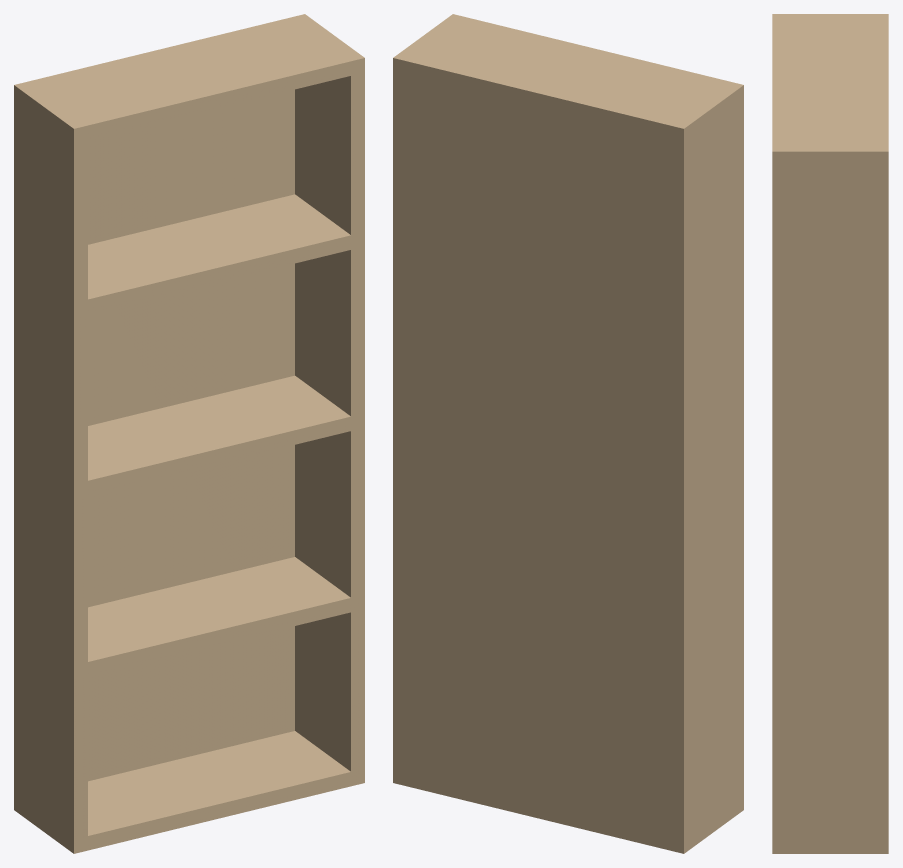
The model's file is bookshelf.glb.
3 views of the same model, side by side, from view 1: azimuth 30°, elevation 25°; view 2: azimuth 150°, elevation 25°; view 3: azimuth 270°, elevation 25° (orthographic). The views are drawn at different scales.
Bounding box in the file's own units: 840 × 2000 × 300.
